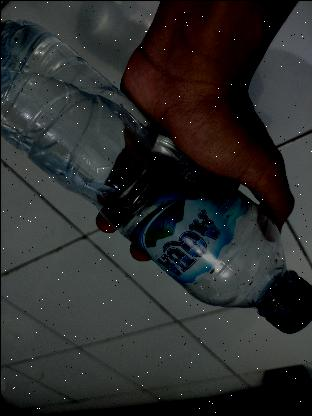Plastic Bottle: (0, 12, 312, 350)
